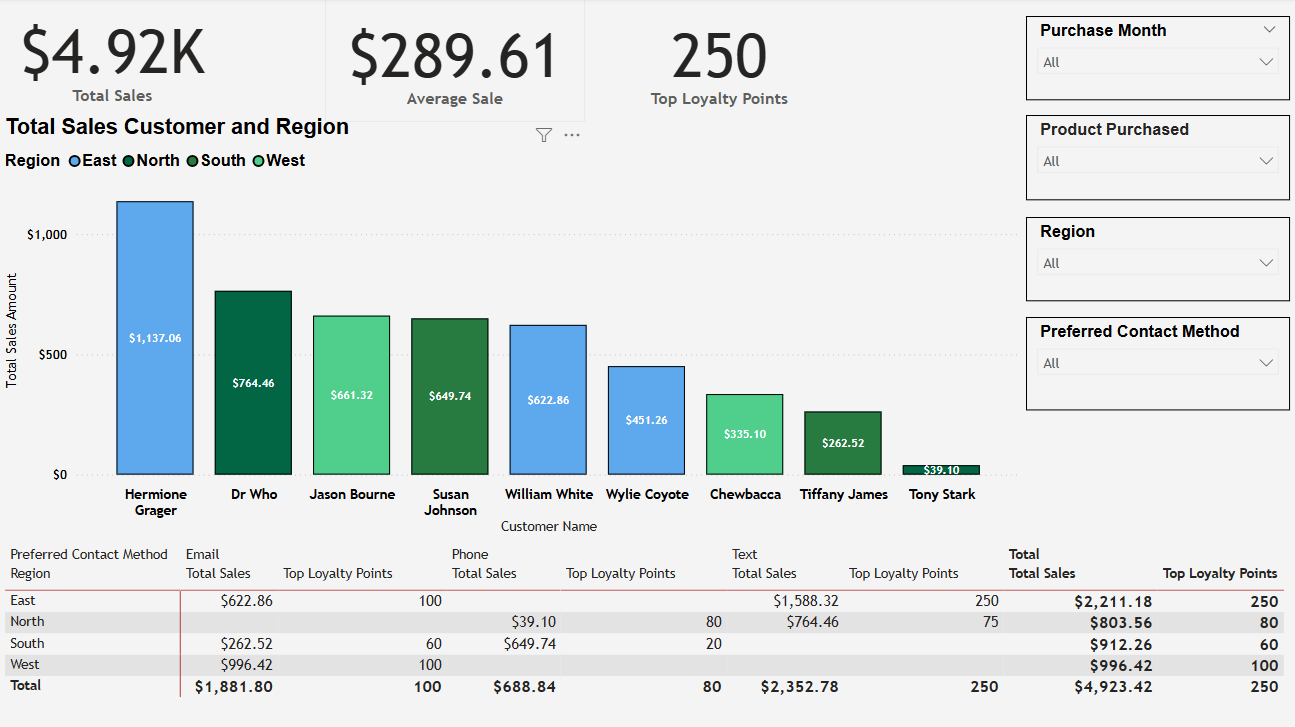

The page's visual inventory and layout, read from the dashboard file:
{"tool":"powerbi","page":{"name":"Total Sales By Customer and Region","canvas":[1280,720],"ordinal":0},"visuals":[{"type":"columnChart","title":"Total Sales Customer and Region","fields":{"Category":["customer.name"],"Y":["sale.Total Sales"],"Series":["customer.region"]},"box":[0,115.2,1010.2,418.5],"z":0},{"type":"slicer","fields":{"Values":["sale.Month"]},"box":[1010.2,17.7,259.9,82.7],"z":1000},{"type":"slicer","fields":{"Values":["customer.region"]},"box":[1010.2,215.6,259.9,82.7],"z":2000},{"type":"slicer","fields":{"Values":["customer.preferred_contact_method"]},"box":[1010.2,314.1,259.9,91.6],"z":3000},{"type":"card","fields":{"Values":["sale.Total Sales"]},"box":[0,0,221.5,115.2],"z":4000},{"type":"card","fields":{"Values":["sale.Average Sale"]},"box":[320,0,256,122.1],"z":5000},{"type":"card","fields":{"Values":["customer.Top Loyalty Points"]},"box":[594.7,0,227.4,122.1],"z":6000},{"type":"pivotTable","fields":{"Rows":["customer.region"],"Columns":["customer.preferred_contact_method"],"Values":["sale.Total Sales","customer.Top Loyalty Points"]},"box":[0,533.7,1280,187.1],"z":7000},{"type":"slicer","fields":{"Values":["product.product_name"]},"box":[1010.2,115.2,259.9,83.7],"z":8000}]}

Visuals, with their boxes in screenshot pixels (x1, y1, x2, y2), scaled from the page's 1280x720 canvas onto the 1295x727 screenshot:
"Total Sales Customer and Region" columnChart: pyautogui.locateOnScreen(0, 116, 1022, 539)
slicer - sale.Month: pyautogui.locateOnScreen(1022, 18, 1285, 101)
slicer - customer.region: pyautogui.locateOnScreen(1022, 218, 1285, 301)
slicer - customer.preferred_contact_method: pyautogui.locateOnScreen(1022, 317, 1285, 410)
card - sale.Total Sales: pyautogui.locateOnScreen(0, 0, 224, 116)
card - sale.Average Sale: pyautogui.locateOnScreen(324, 0, 583, 123)
card - customer.Top Loyalty Points: pyautogui.locateOnScreen(602, 0, 832, 123)
pivotTable - customer.region x customer.preferred_contact_method: pyautogui.locateOnScreen(0, 539, 1294, 726)
slicer - product.product_name: pyautogui.locateOnScreen(1022, 116, 1285, 201)
